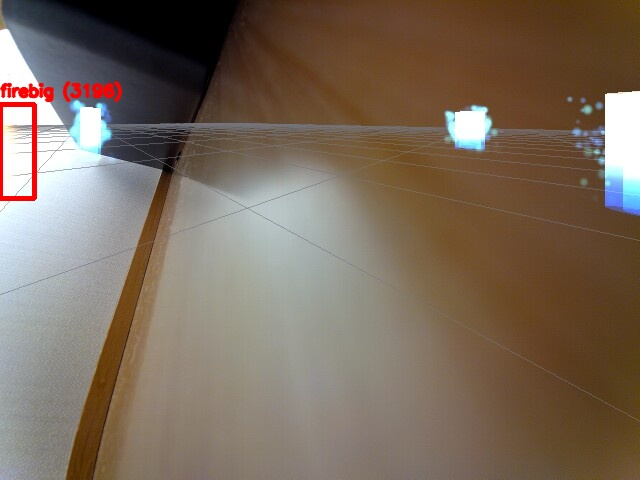firebig: (0, 104, 34, 198)
